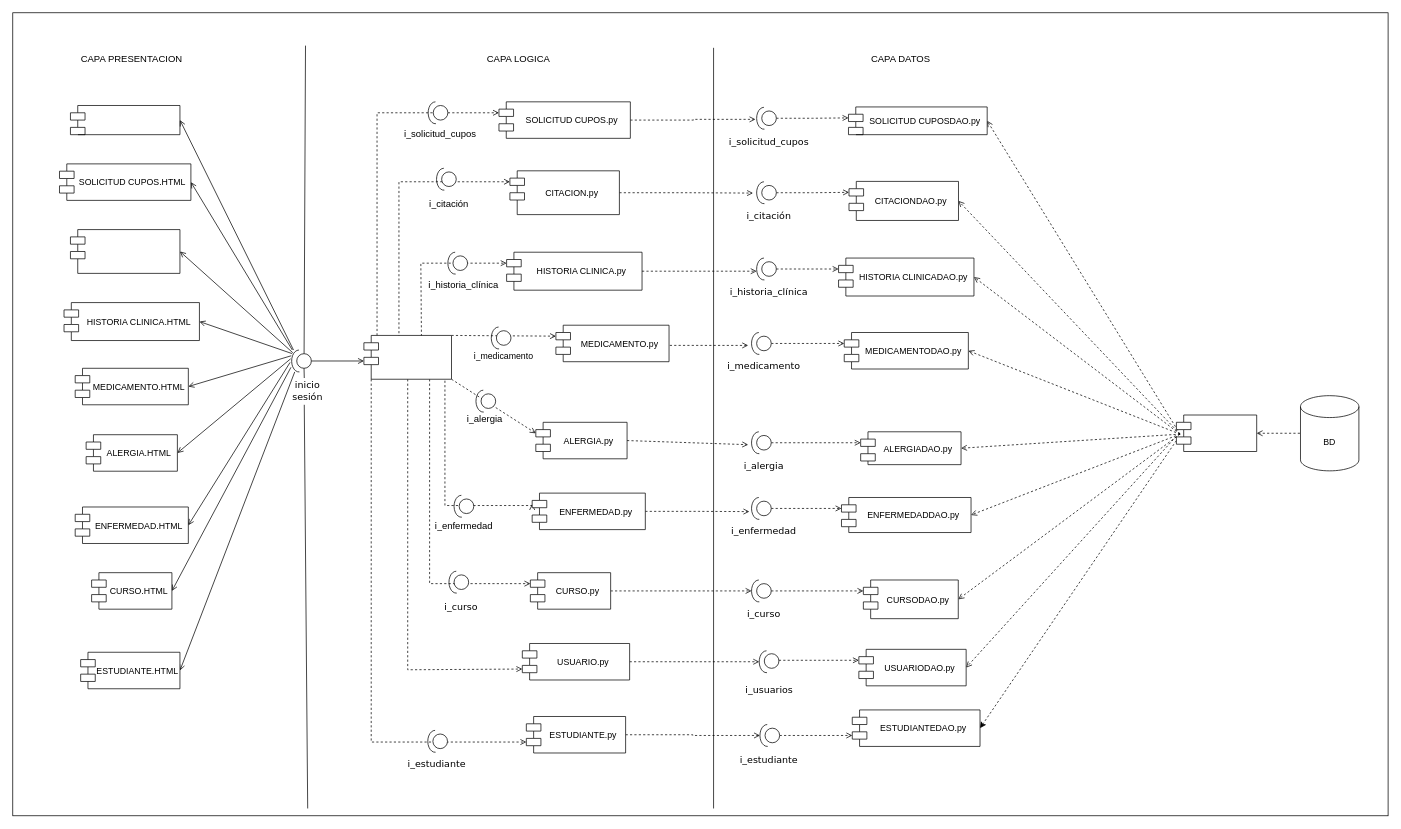
Some shapes in this 1401 by 829 pixel diagram are drawn without their labels. The shapes that lost their labels are listed below. From the top down, each one's centre as x and y in pixels, then its label:
point (125, 120): USUARIOS.HTML
point (125, 251): CITACION.HTML
point (407, 357): VALIDACIÒN USUARIO.JAVA
point (1216, 433): ACCESO A DATOS
